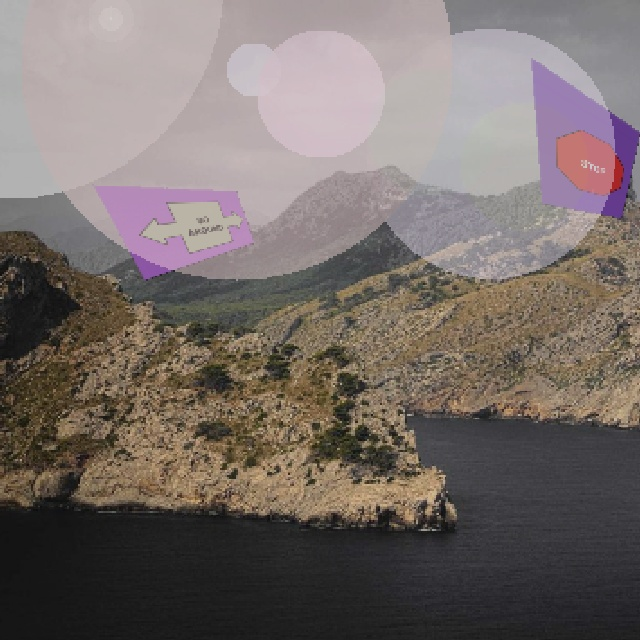GO_AROUND: (122, 183, 251, 265)
STOP: (553, 114, 627, 200)
